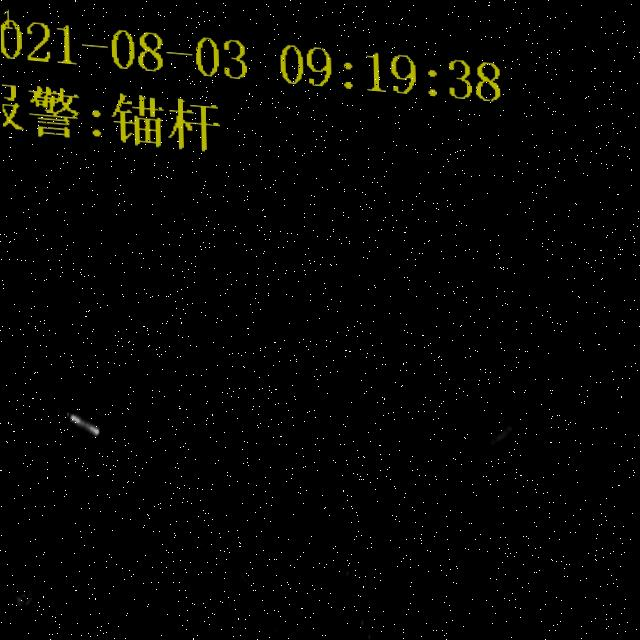bolt: (276, 525, 352, 640)
